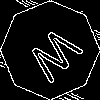W: (25, 25, 91, 91)
